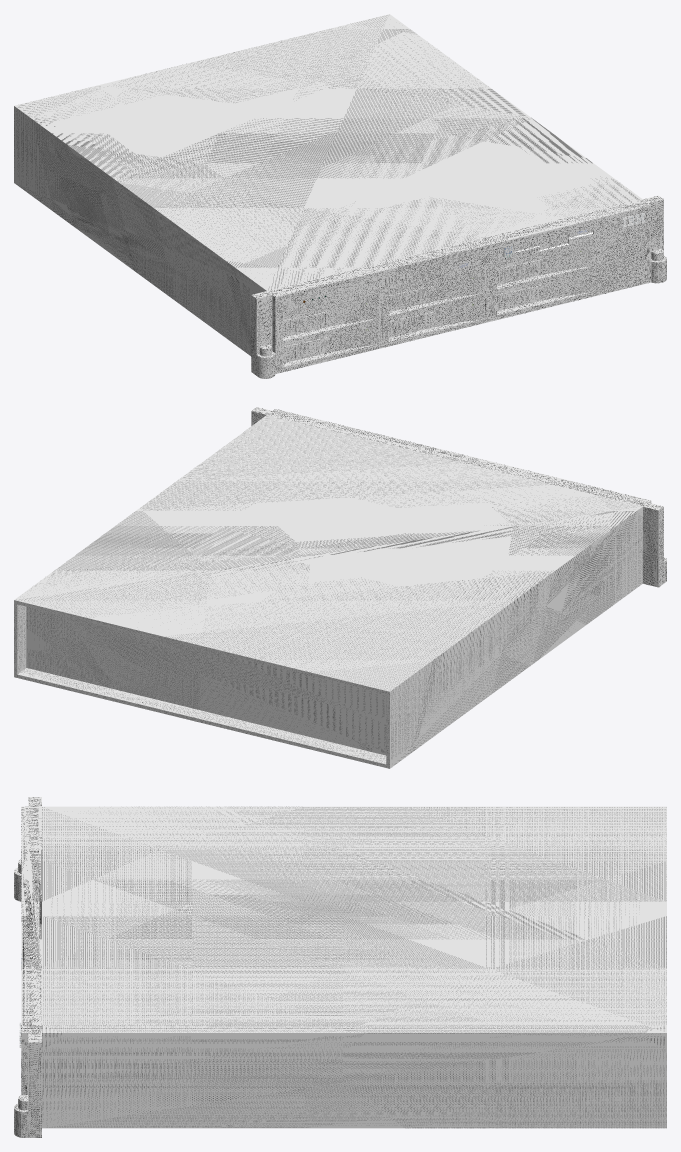
3 views of the same model, one above another, from view 1: azimuth 30°, elevation 25°; view 2: azimuth 150°, elevation 25°; view 3: azimuth 270°, elevation 25° (orthographic). The views are drawn at different scales.
Parts seen in each view (by area): view 1: SketchUp (×5), Component_2 (×12), group_16, group_15; view 2: SketchUp (×3); view 3: SketchUp (×2), group_15.
Boxes of the visible parts, x1,y1,x2,y2 form: SketchUp (×5): [14, 14, 663, 375]; Component_2 (×12): [283, 241, 593, 367]; group_16: [256, 295, 275, 378]; group_15: [649, 199, 666, 283]; SketchUp (×3): [14, 407, 663, 768]; SketchUp (×2): [21, 797, 666, 1137]; group_15: [14, 1095, 28, 1137].
Bounding box in the file's own units: 316 × 355 × 57.09.
19 materials, 1 textured.
